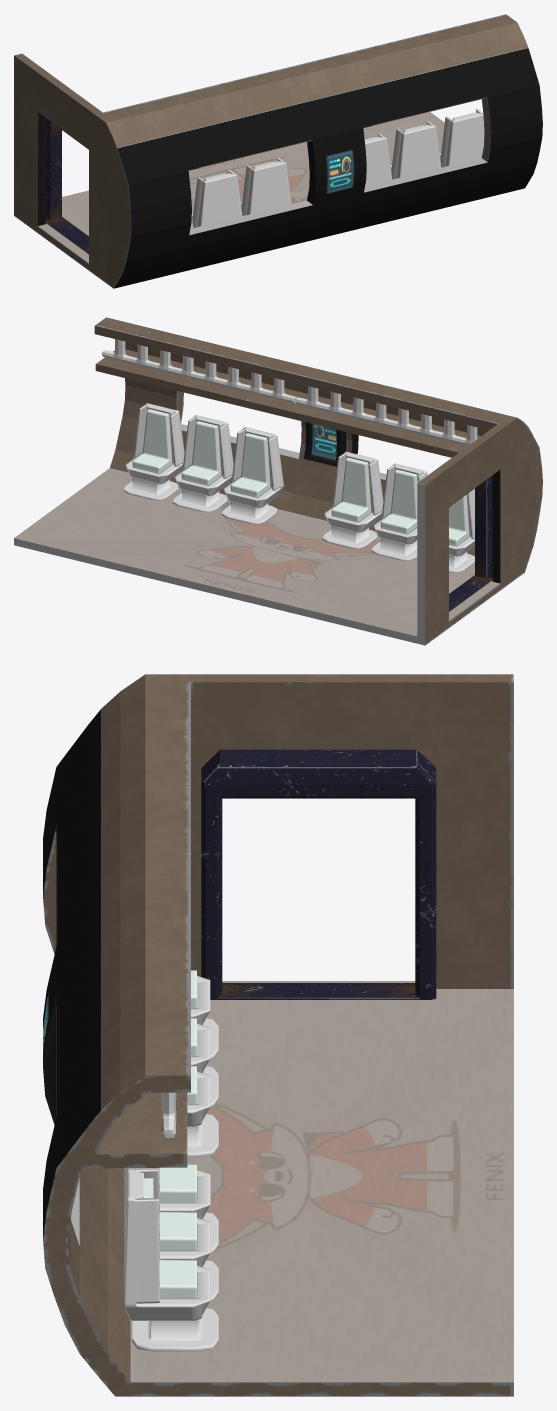
The model's file is MM_Vagon_.fbx.
The picture shows the model from 3 angles, top to bottom: view 1: azimuth 30°, elevation 25°; view 2: azimuth 150°, elevation 25°; view 3: azimuth 270°, elevation 25°; orthographic projection. The views are drawn at different scales.
Parts seen in each view (by area): view 1: Cube, Cube.001, Cube.003, Cube.002; view 2: Cube, Cube.001, Cube.003, Cube.004, Cube.002; view 3: Cube, Cube.002, Cube.001, Cube.003.
Part boxes in pixels (x1,y1,x2,y2): Cube: (14, 14, 542, 288); Cube.001: (364, 109, 484, 186); Cube.003: (190, 157, 291, 228); Cube.002: (45, 118, 88, 254); Cube: (14, 317, 542, 645); Cube.001: (123, 403, 283, 524); Cube.003: (322, 451, 474, 572); Cube.004: (102, 339, 477, 445); Cube.002: (449, 476, 492, 611); Cube: (43, 674, 513, 1396); Cube.002: (201, 749, 436, 999); Cube.001: (124, 1164, 218, 1351); Cube.003: (187, 970, 218, 1156).
Bounding box in the file's own units: 600 × 224 × 298.
Materials: 7 (3 with a texture image).
